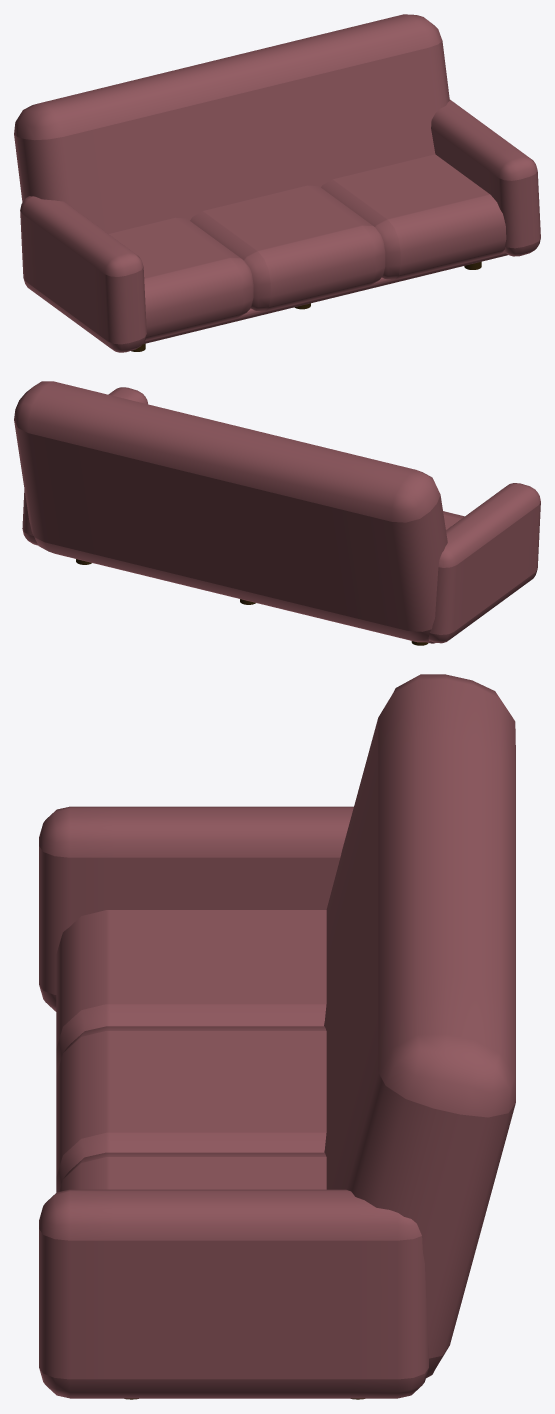
File: sofa.fbx
3 renders of one model, top to bottom at view 1: azimuth 30°, elevation 25°; view 2: azimuth 150°, elevation 25°; view 3: azimuth 270°, elevation 25°, orthographic. The views are drawn at different scales.
Parts seen in each view (by area): view 1: pCube4, pCube2, pCube3, pCube5, pCube1, pCube6, pCube7; view 2: pCube4, pCube5, pCube6; view 3: pCube4, pCube6, pCube2, pCube5, pCube1, pCube3.
Boxes of the visible parts, <box> form: pCube4: <box>14,14,449,233</box>; pCube2: <box>190,185,385,311</box>; pCube3: <box>321,154,506,279</box>; pCube5: <box>20,196,146,352</box>; pCube1: <box>109,217,253,340</box>; pCube6: <box>431,99,540,256</box>; pCube7: <box>143,252,507,344</box>; pCube4: <box>14,381,447,642</box>; pCube5: <box>428,483,540,643</box>; pCube6: <box>22,387,147,545</box>; pCube4: <box>324,674,515,1378</box>; pCube6: <box>39,1189,428,1398</box>; pCube2: <box>56,1026,326,1192</box>; pCube5: <box>39,806,353,1011</box>; pCube1: <box>56,910,326,1074</box>; pCube3: <box>59,1152,326,1191</box>.
Bounding box in the file's own units: 2.81 × 1.16 × 1.34.
